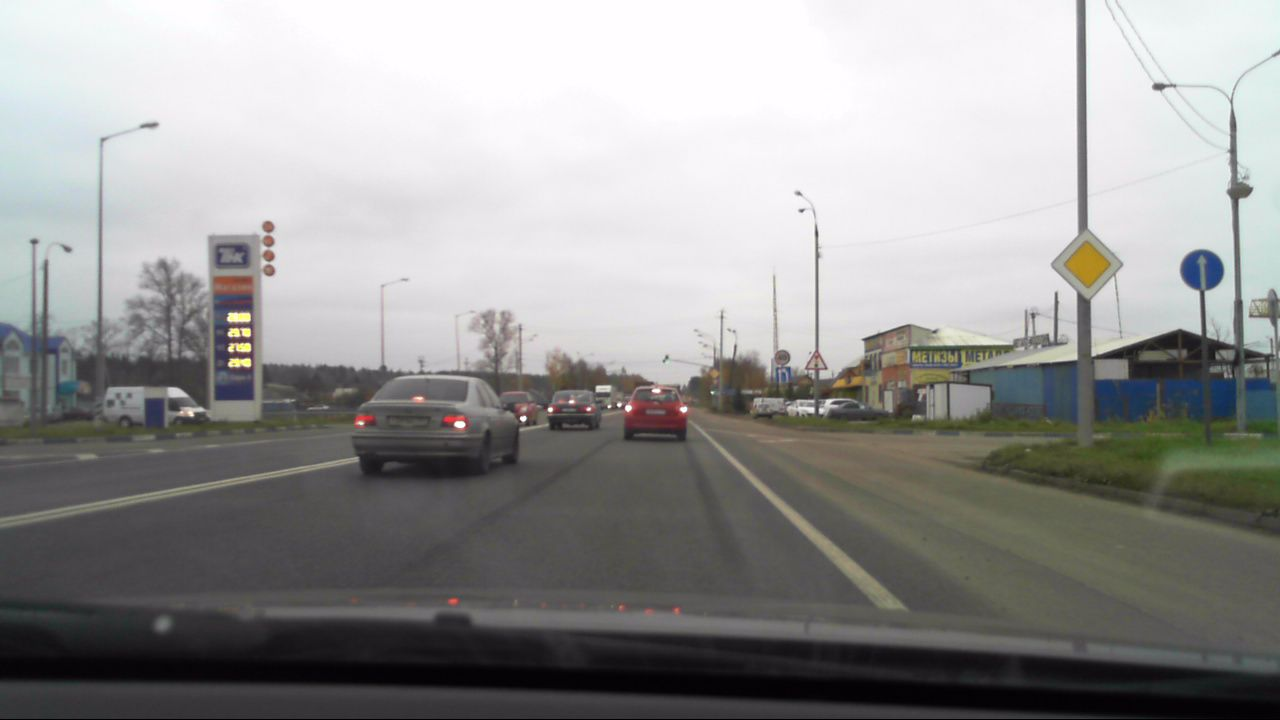speed_warning_40: (773, 347, 794, 366)
